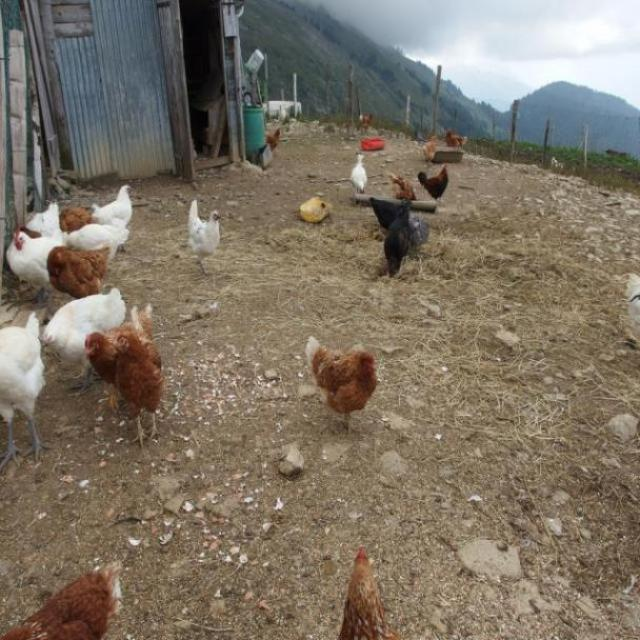Chicken: (0, 186, 168, 467), (0, 558, 125, 639), (300, 332, 380, 439), (338, 549, 401, 639), (188, 202, 220, 275), (417, 166, 449, 202), (351, 155, 367, 193)
